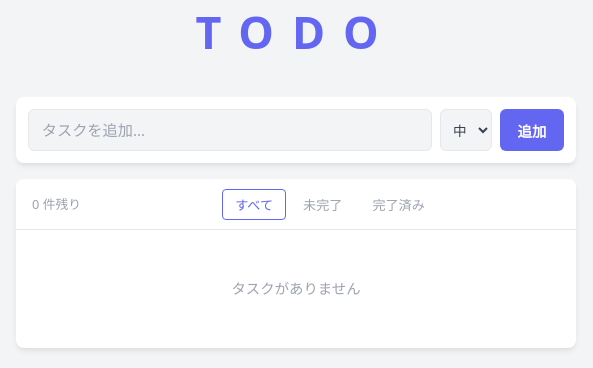
App › タスクを追加できる
Type "新しいタスク" into the field named "新しいタスク" at x=230, y=130, box [28,109,432,151]
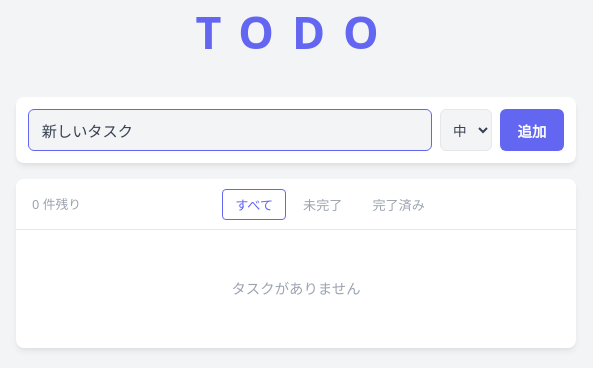
Select "中" in the dropdown named "優先度" at x=466, y=130, box [440,109,492,151]
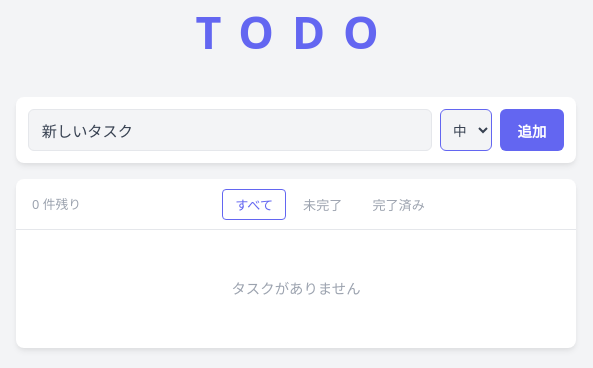
Click the button "追加" at x=532, y=130, box [500,109,564,151]
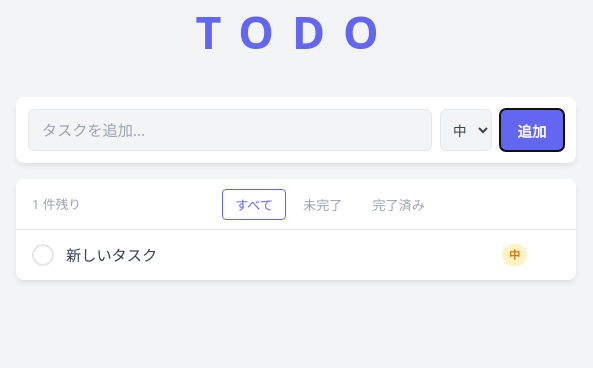
expect the text "新しいタスク" is shown: met, box [66,245,157,265]
